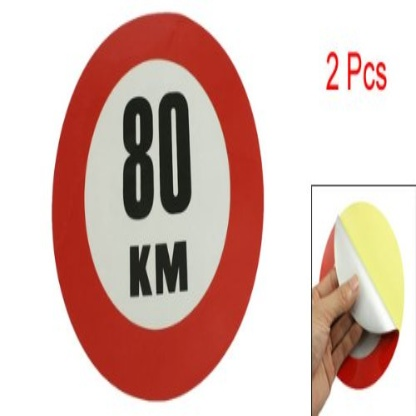limit2: (35, 8, 271, 404)
